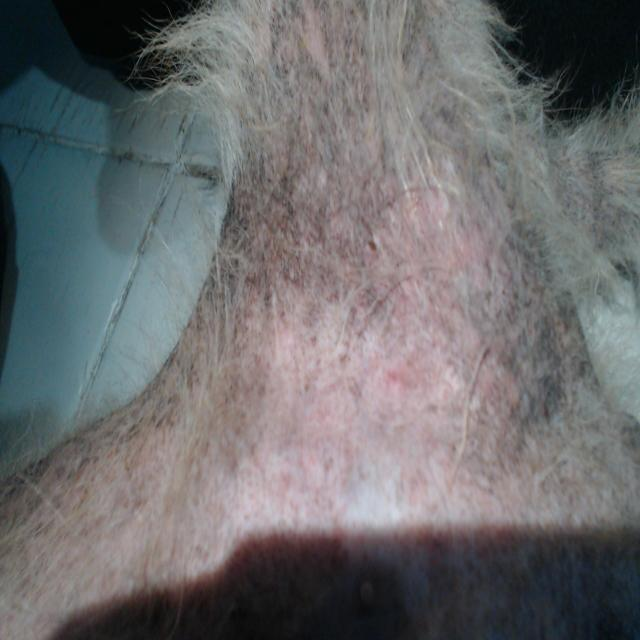demodicosis: (256, 46, 405, 243), (487, 246, 572, 403)
